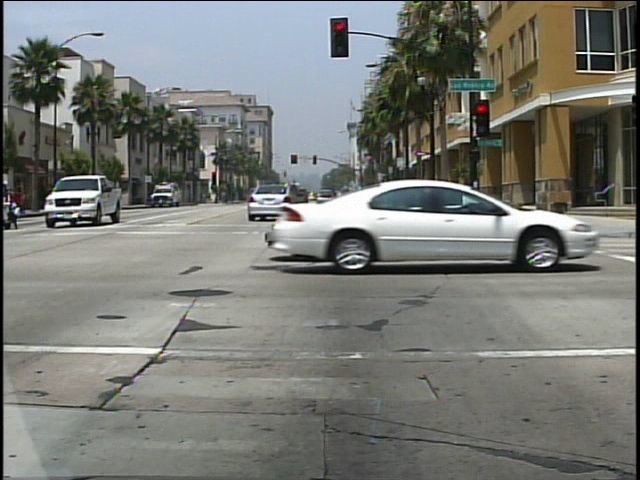person: (1, 177, 23, 232)
